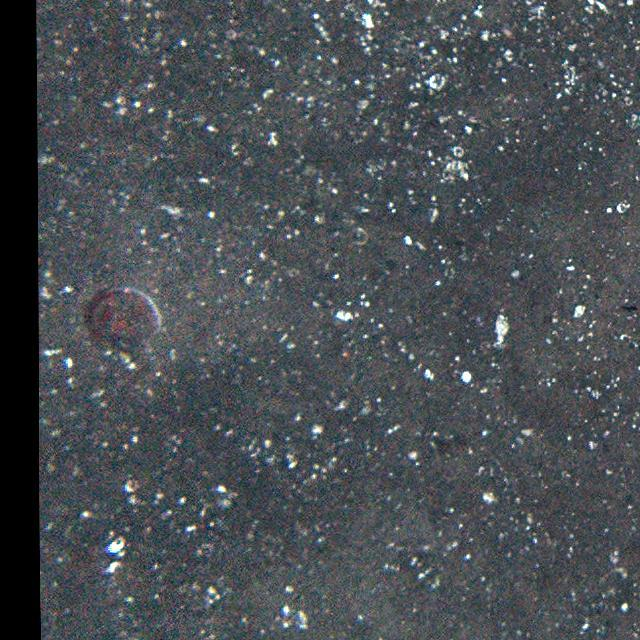scallop: (76, 286, 165, 348)
